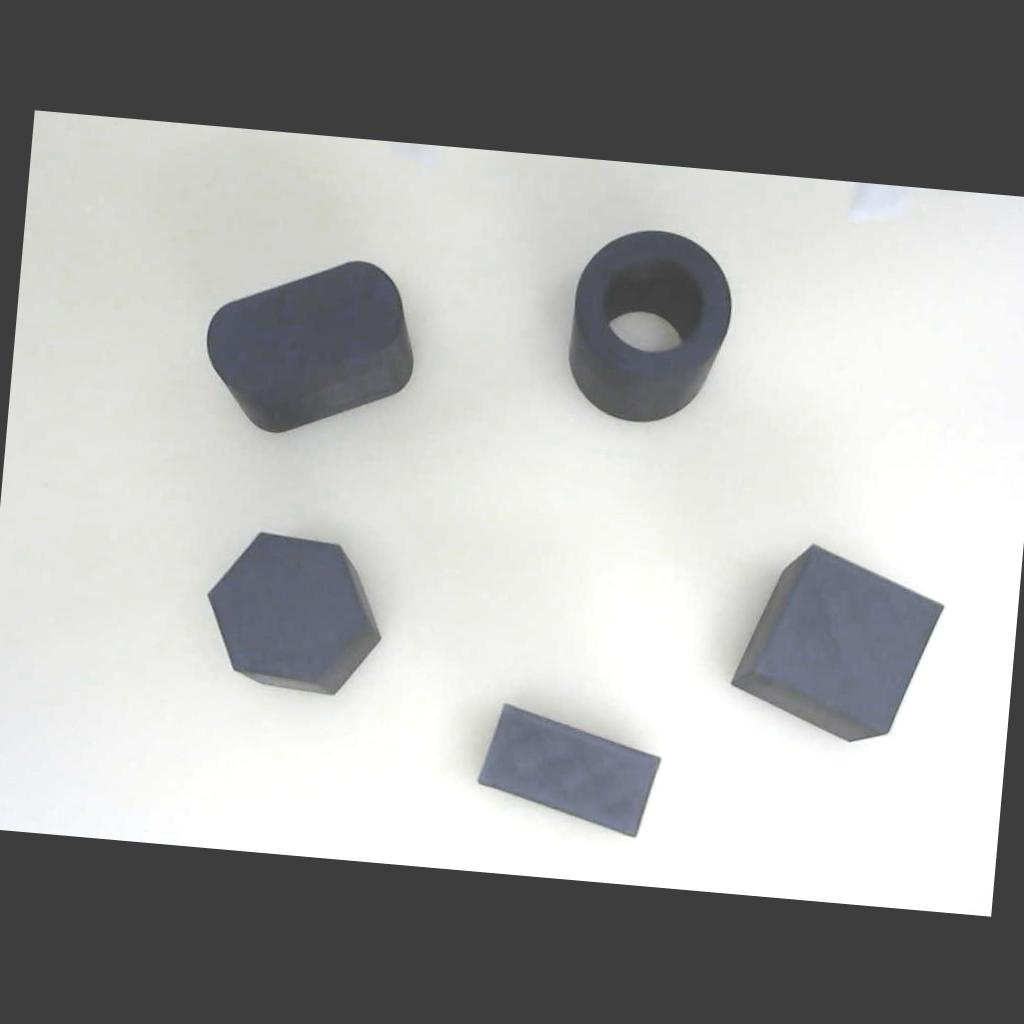hexagon: (183, 507, 407, 713)
oval: (190, 243, 435, 451)
rectangle: (461, 688, 677, 851)
ring: (530, 203, 755, 450)
square: (697, 506, 978, 783)
